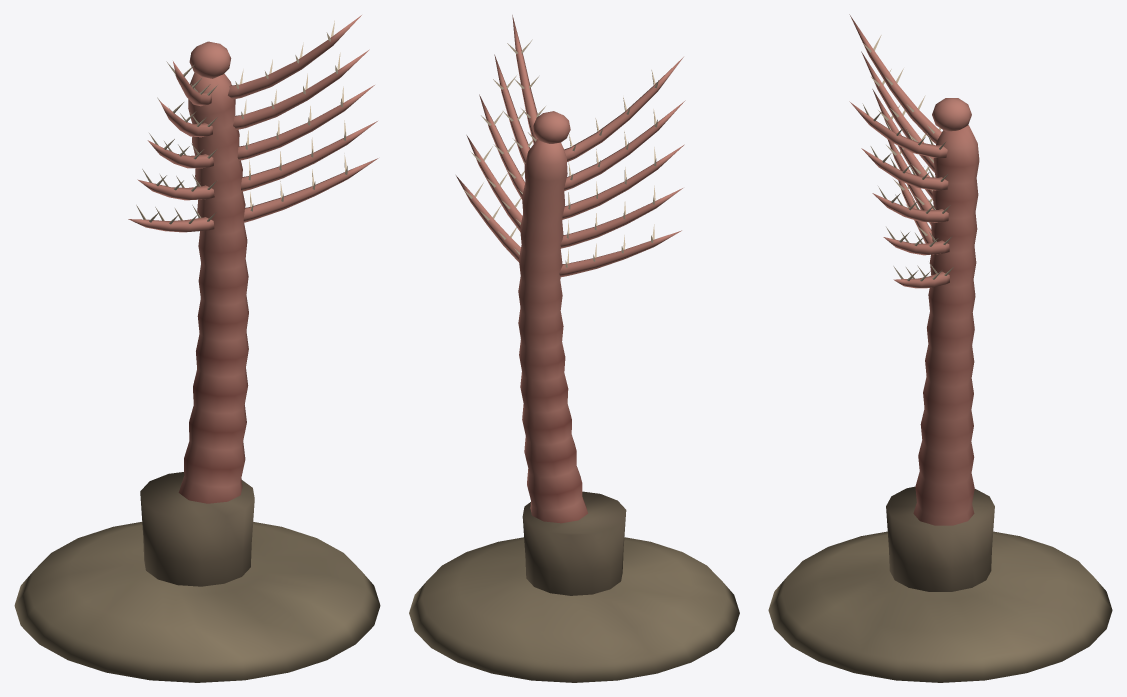
Rendered from Facivermis.fbx.
3 views of the same model, side by side, from view 1: azimuth 30°, elevation 25°; view 2: azimuth 150°, elevation 25°; view 3: azimuth 270°, elevation 25° (orthographic). The views are drawn at different scales.
Parts seen in each view (by area): view 1: Facivermis; view 2: Facivermis; view 3: Facivermis.
Boxes of the visible parts, x1,y1,x2,y2 form: Facivermis: (14, 15, 380, 682); Facivermis: (409, 15, 739, 682); Facivermis: (768, 14, 1112, 682).
Size of the model in its own units: 0.6 by 1.1 by 0.6.
